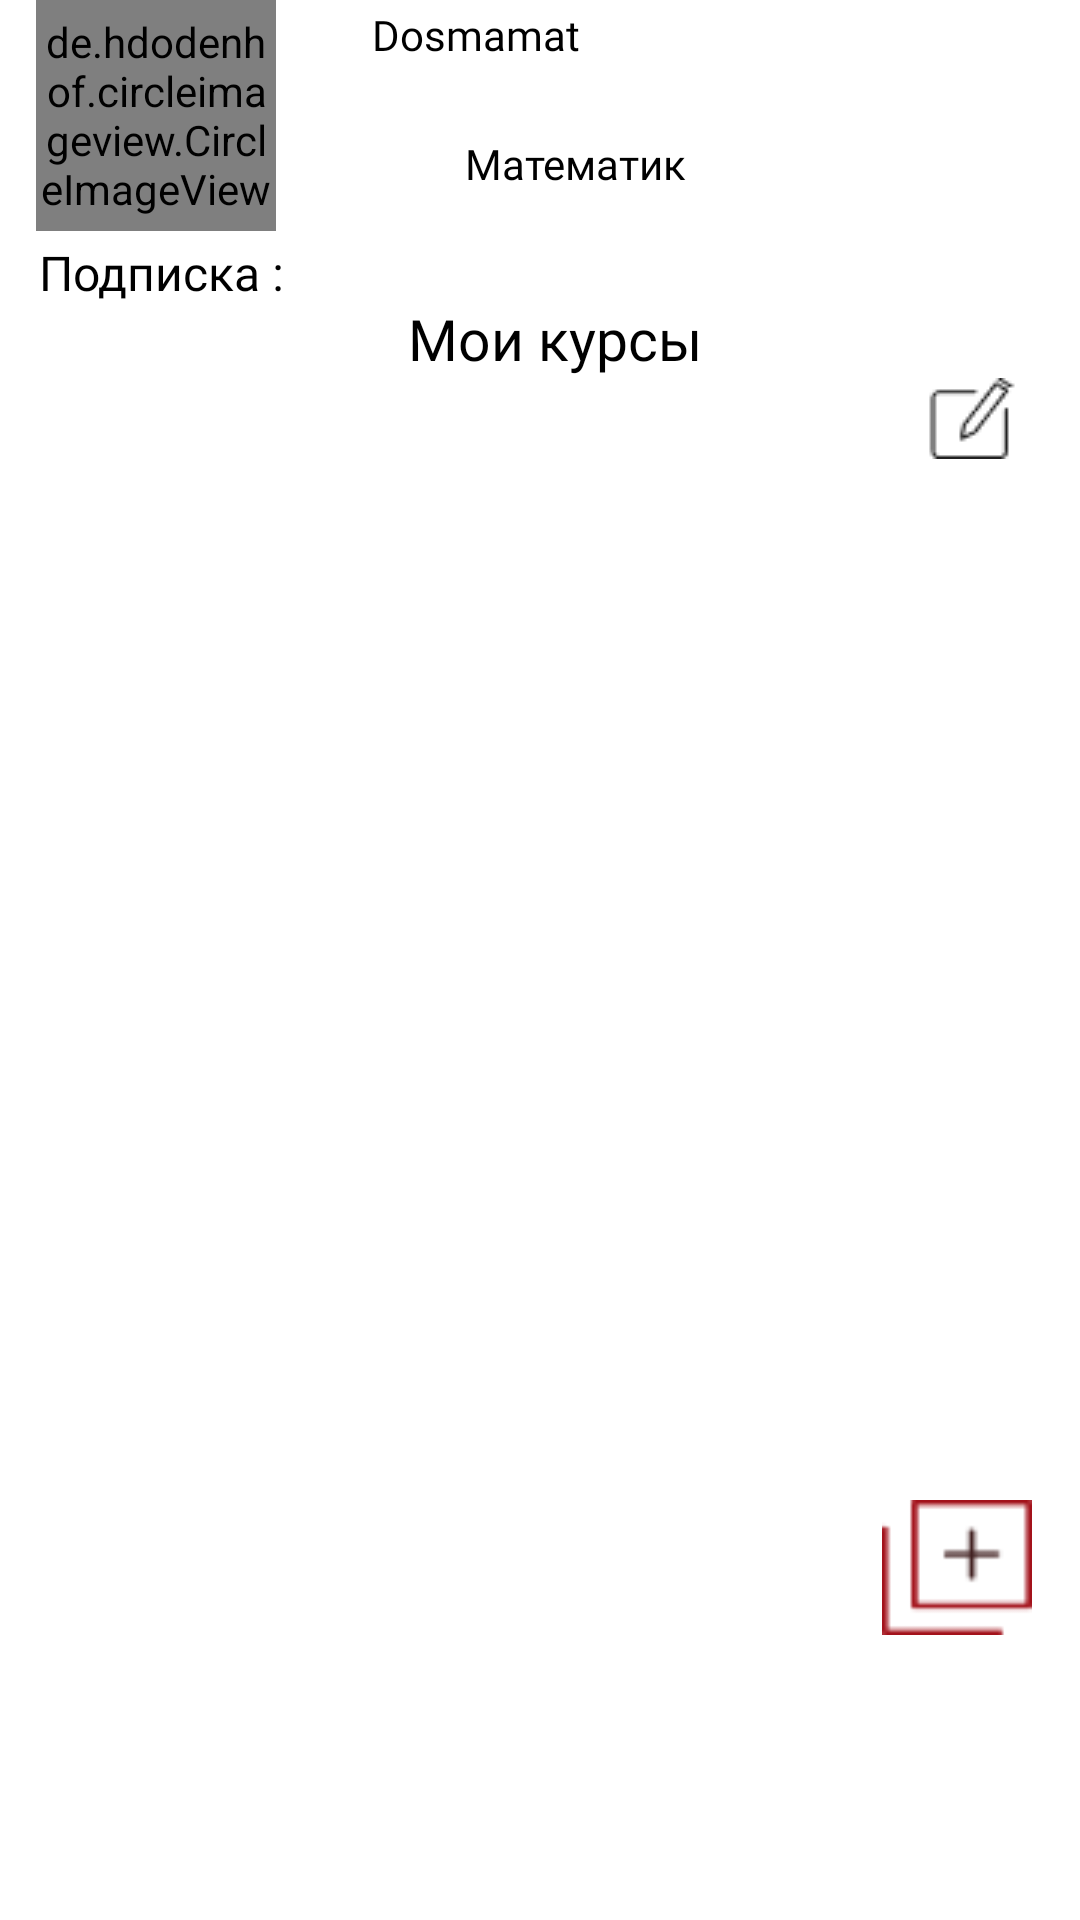

Locate icon controls on the screen. Image size 1080×1920, boxes as (x1=x1, y1=y1, x2=x2, y2=y2).
add course: (x1=882, y1=1500, x2=1032, y2=1635)
editabout: (x1=929, y1=378, x2=1015, y2=459)
